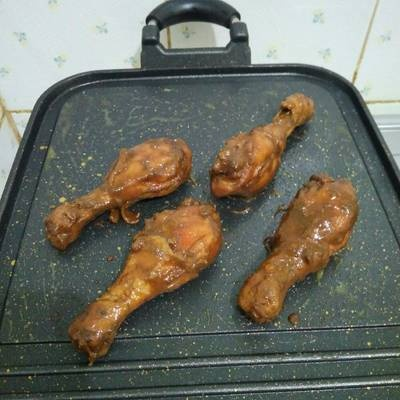ayam_goreng: (31, 200, 224, 363), (235, 174, 360, 324), (40, 132, 193, 246), (208, 88, 317, 200)
